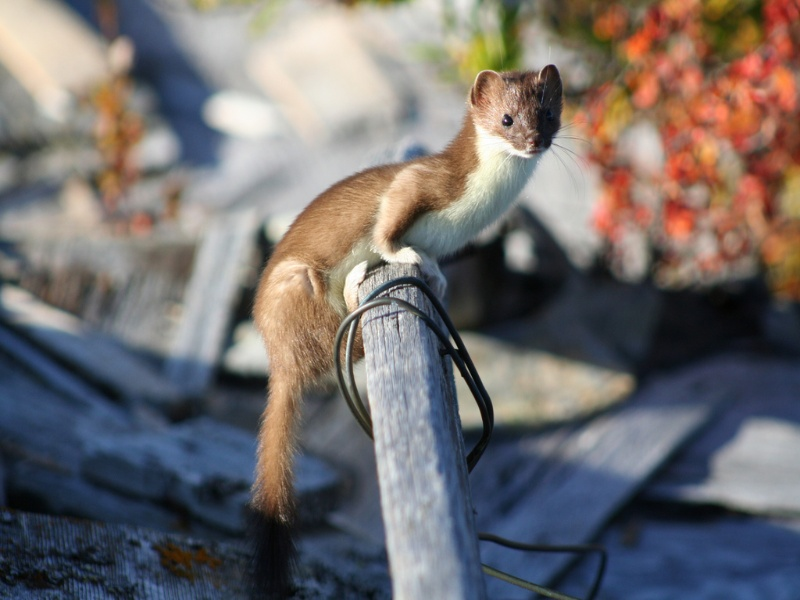minkish: (241, 63, 565, 525)
